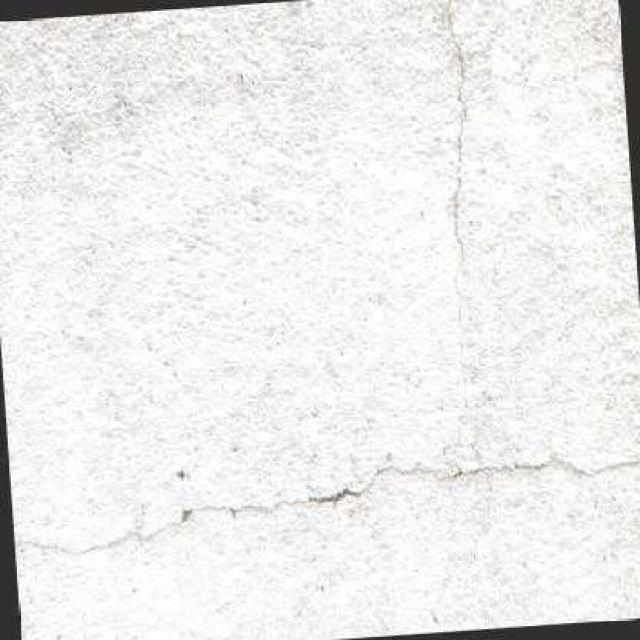D00: (14, 443, 640, 562), (442, 0, 476, 439)
